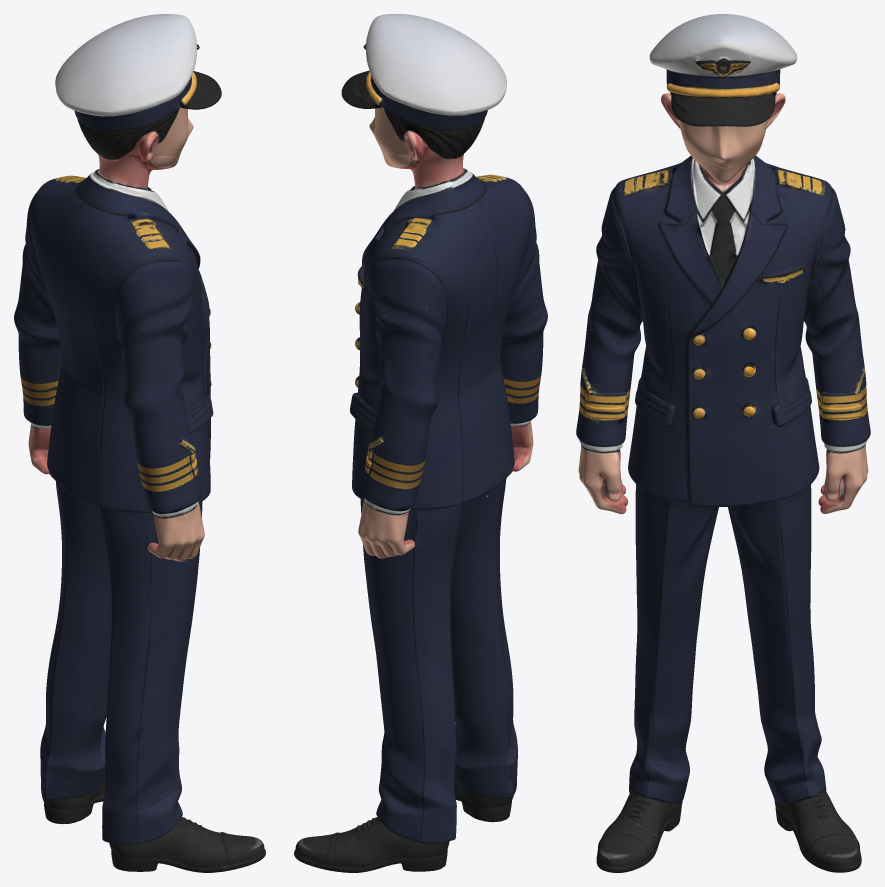
File: pilot+uniform+3d+model (2).glb
The picture shows the model from 3 angles, left to right: view 1: azimuth 30°, elevation 25°; view 2: azimuth 150°, elevation 25°; view 3: azimuth 270°, elevation 25°; orthographic projection. The views are drawn at different scales.
Parts seen in each view (by area): view 1: tripo_node_699646de-515c-4d93-862b-37deb9a454b5; view 2: tripo_node_699646de-515c-4d93-862b-37deb9a454b5; view 3: tripo_node_699646de-515c-4d93-862b-37deb9a454b5.
Boxes of the visible parts, x1,y1,x2,y2 form: tripo_node_699646de-515c-4d93-862b-37deb9a454b5: (14,14,265,872); tripo_node_699646de-515c-4d93-862b-37deb9a454b5: (294,14,547,872); tripo_node_699646de-515c-4d93-862b-37deb9a454b5: (576,14,870,872).
Bounding box in the file's own units: 0.193 × 1 × 0.3229.
Materials: 1 (1 with a texture image).
